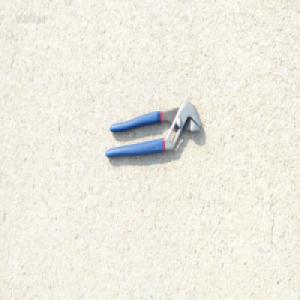Pliers: (104, 101, 202, 160)
